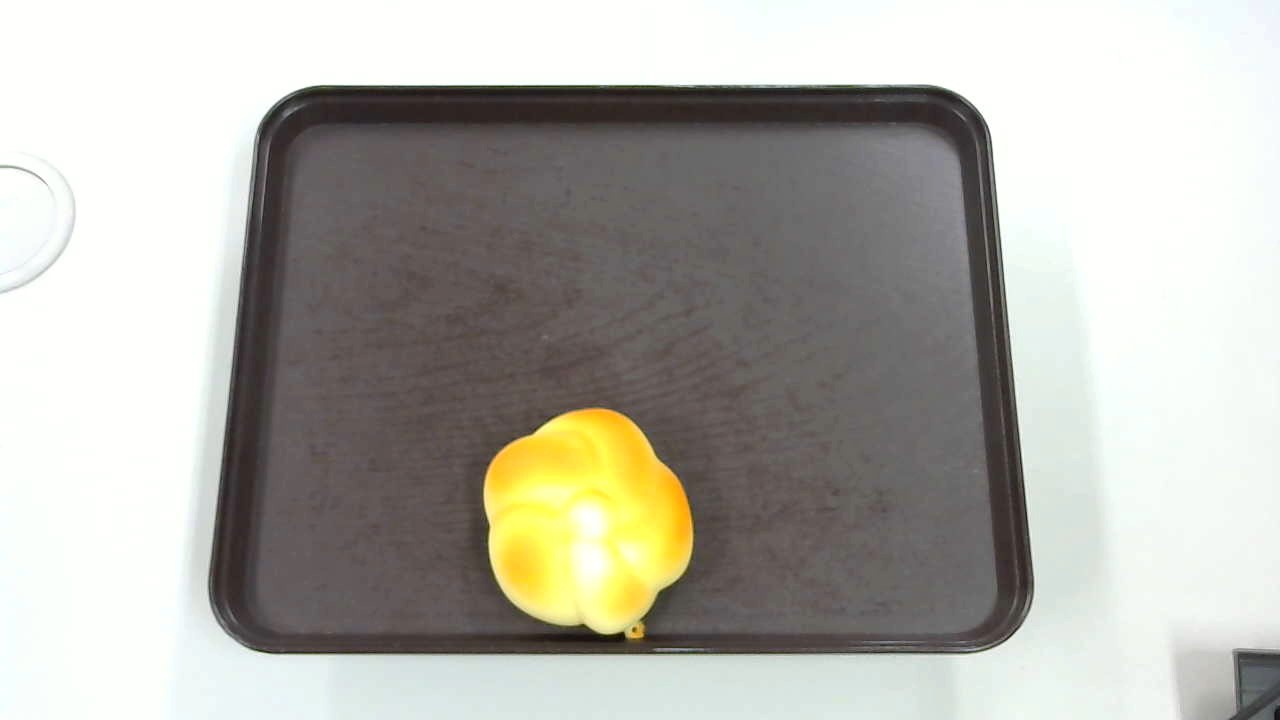twist bread: (483, 406, 695, 641)
